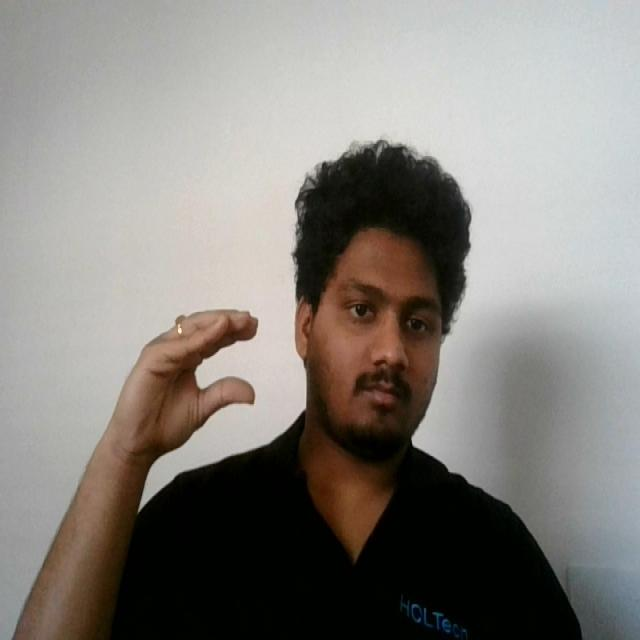No: (105, 301, 264, 465)
